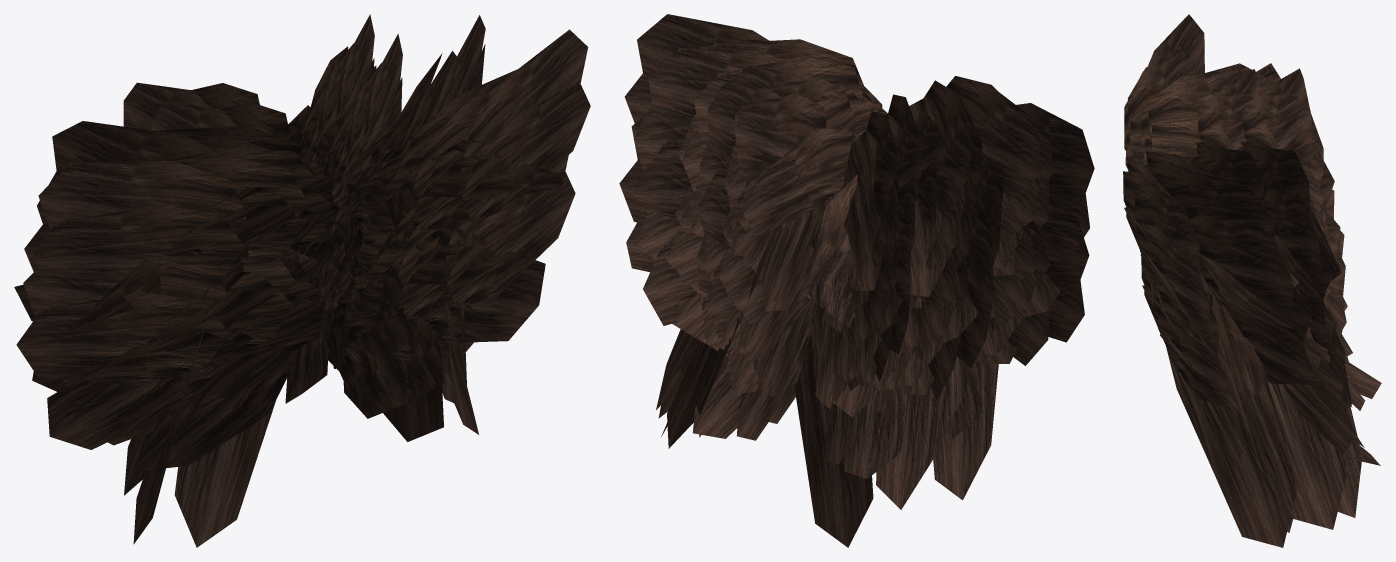
Rendered from SM_NoChill_00.fbx.
The picture shows the model from 3 angles, left to right: view 1: azimuth 30°, elevation 25°; view 2: azimuth 150°, elevation 25°; view 3: azimuth 270°, elevation 25°; orthographic projection. The views are drawn at different scales.
Visible parts, largest first — view 1: SM_NoChill_00; view 2: SM_NoChill_00; view 3: SM_NoChill_00.
Boxes of the visible parts, bbox=[...] form: SM_NoChill_00: bbox=[14, 14, 590, 547]; SM_NoChill_00: bbox=[619, 14, 1094, 547]; SM_NoChill_00: bbox=[1123, 14, 1381, 547].
Size of the model in its own units: 97.48 by 83.86 by 46.02.
